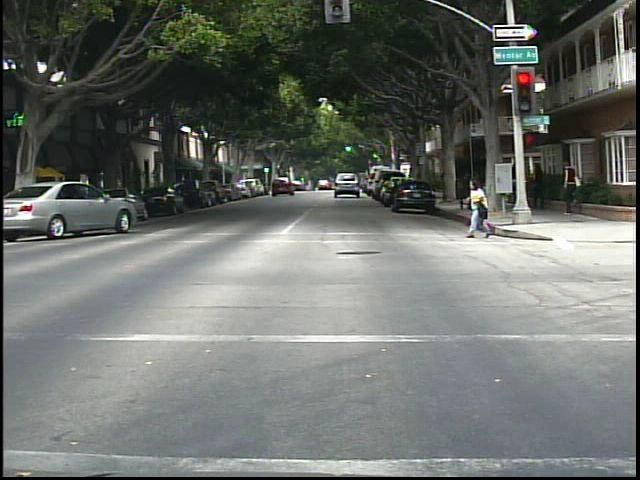person: (462, 175, 496, 243), (558, 154, 587, 215), (532, 157, 554, 215)
